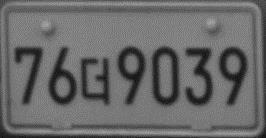0: (150, 43, 180, 107)
3: (183, 43, 213, 104)
6: (45, 45, 78, 106)
7: (12, 44, 44, 104)
9: (116, 44, 147, 105), (217, 45, 248, 105)
더: (80, 55, 113, 107)
